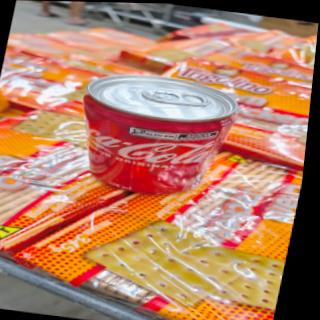beverage: (61, 63, 253, 208)
